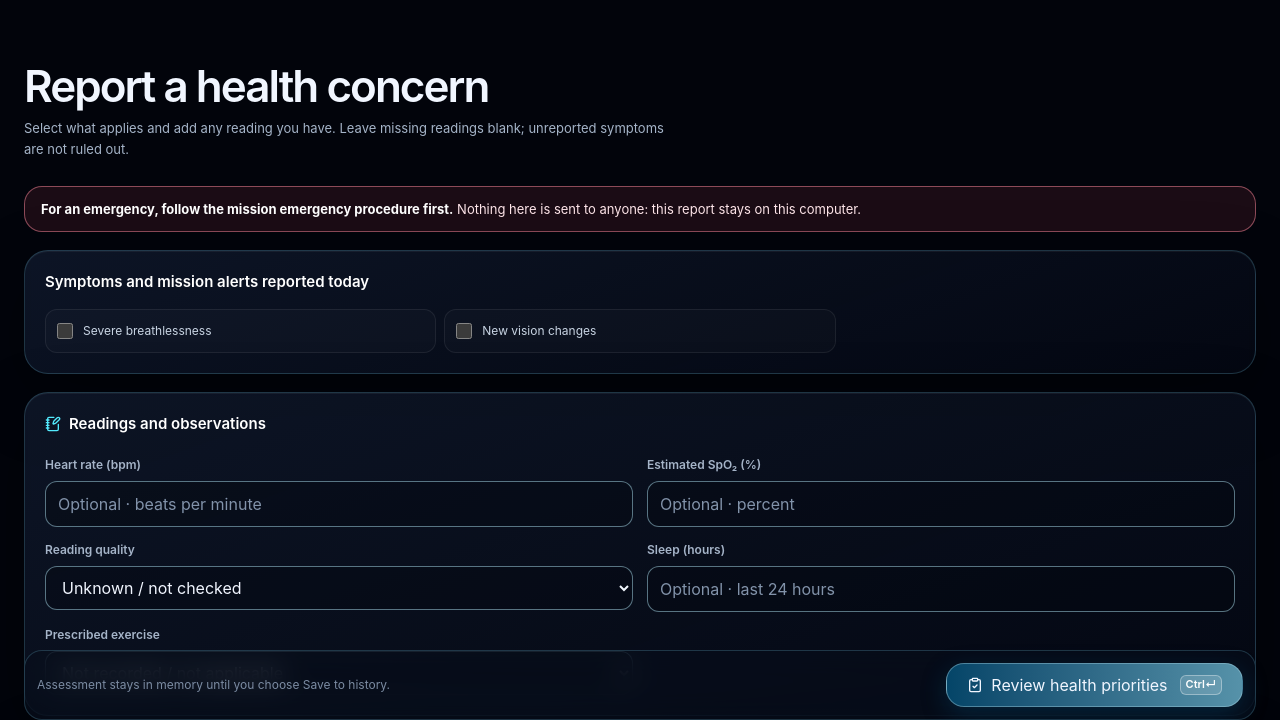
Test: CheckinPage › flags a non-numeric entry inline and does not submit
Type "7,5" into the field labelled "Sleep (hours)" at (941,589), box [647,566,1235,612]
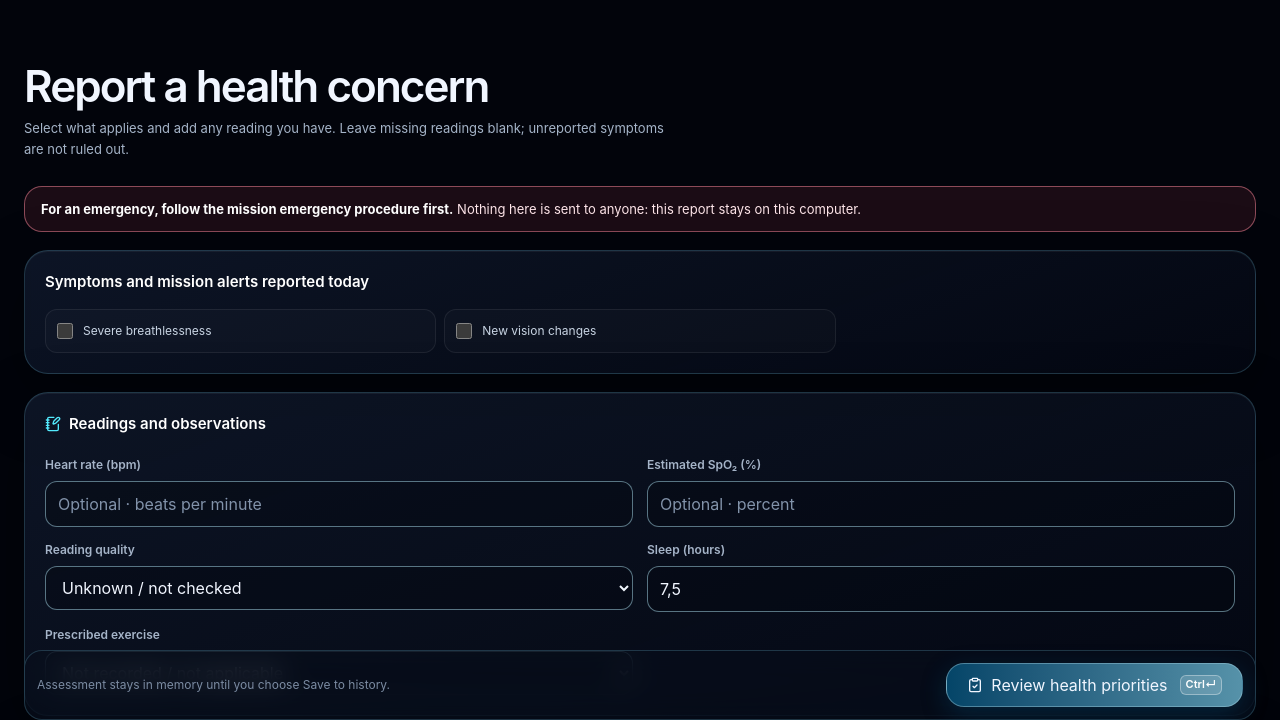
Leave the field labelled "Sleep (hours)", box [647,566,1235,612]
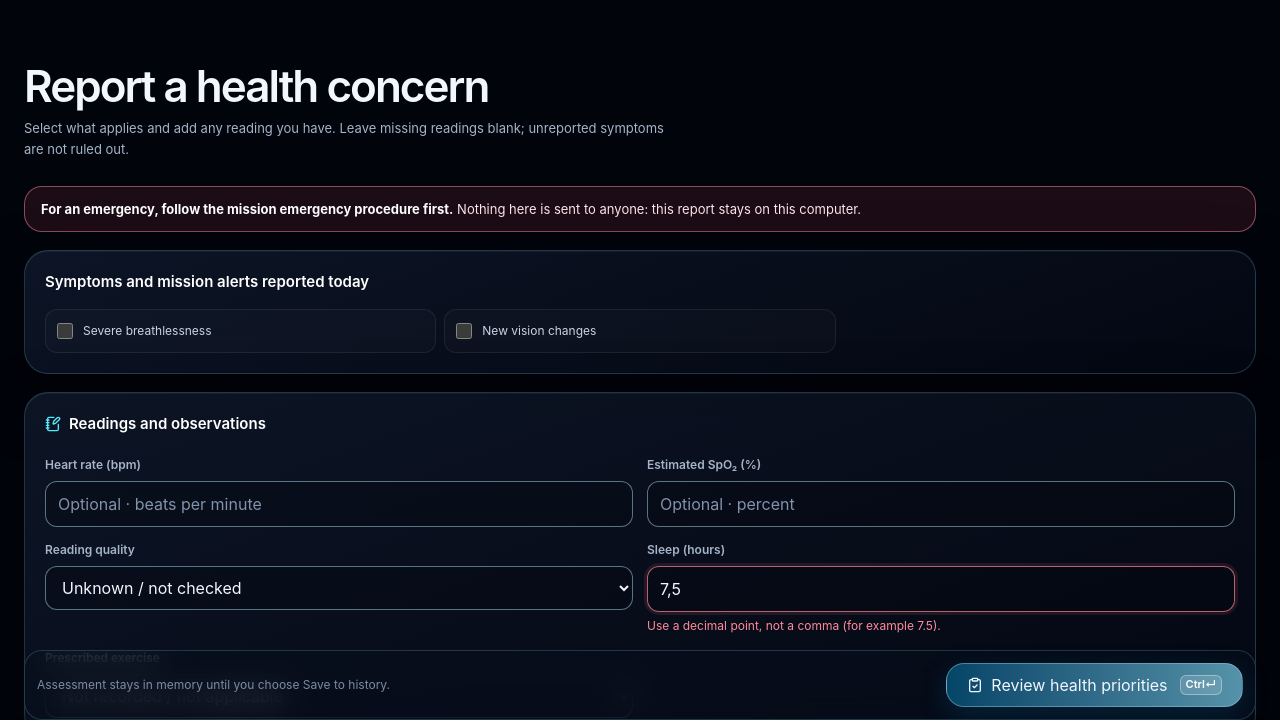
Click the button "Review health priorities Ctrl↵" at (1095,685), box [946,663,1243,707]
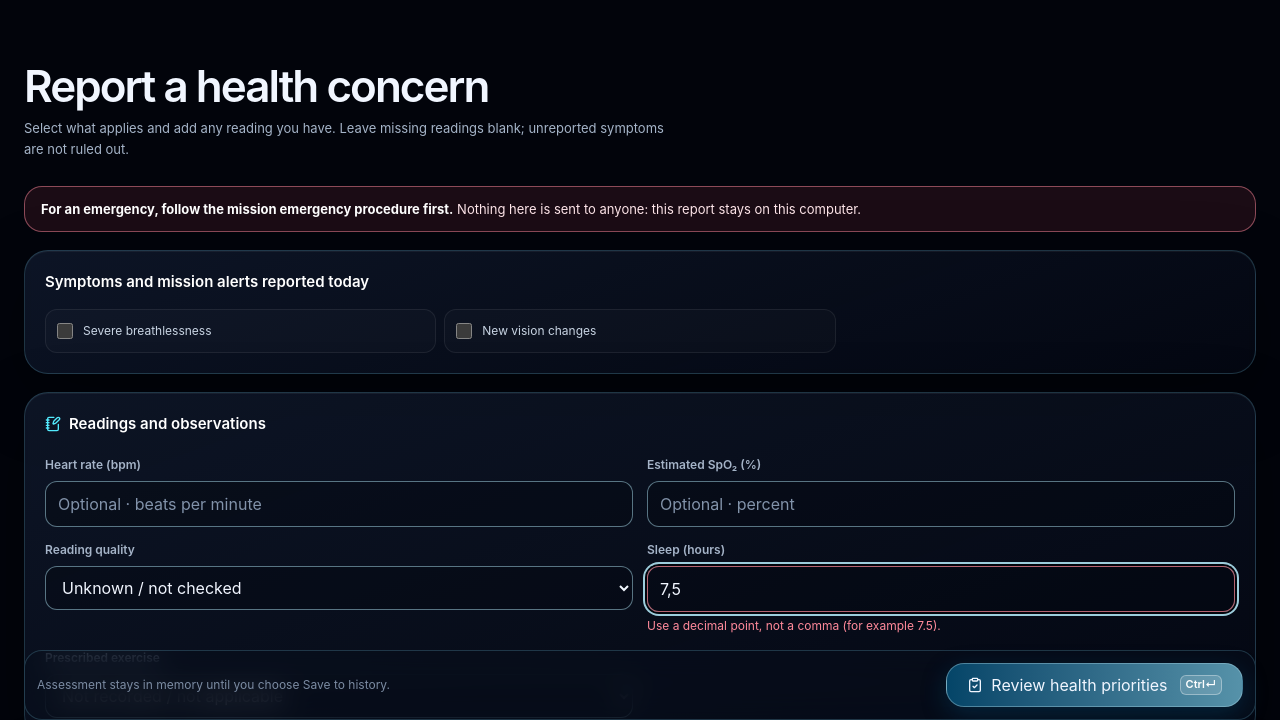
Replace the text in the field labelled "Sleep (hours)" with "7.5" at (941,589), box [647,566,1235,612]
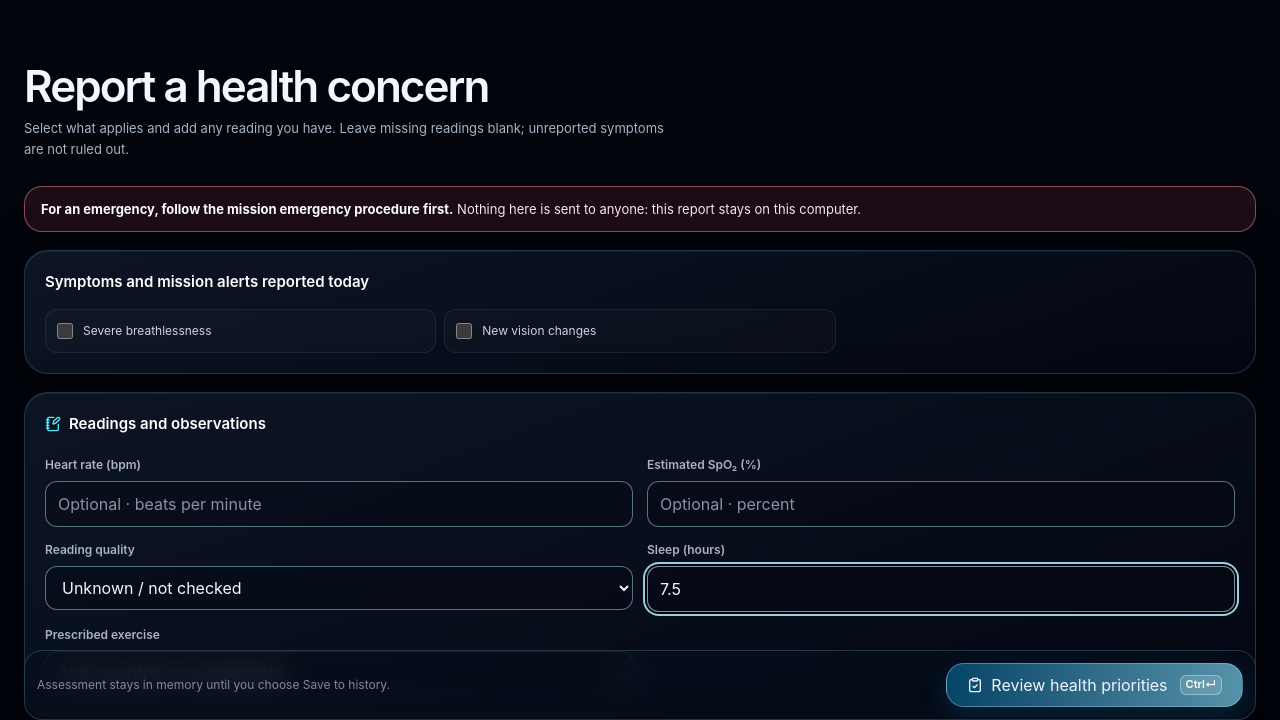
expect the field labelled "Sleep (hours)" does not have attribute aria-invalid: met, box [647,566,1235,612]
